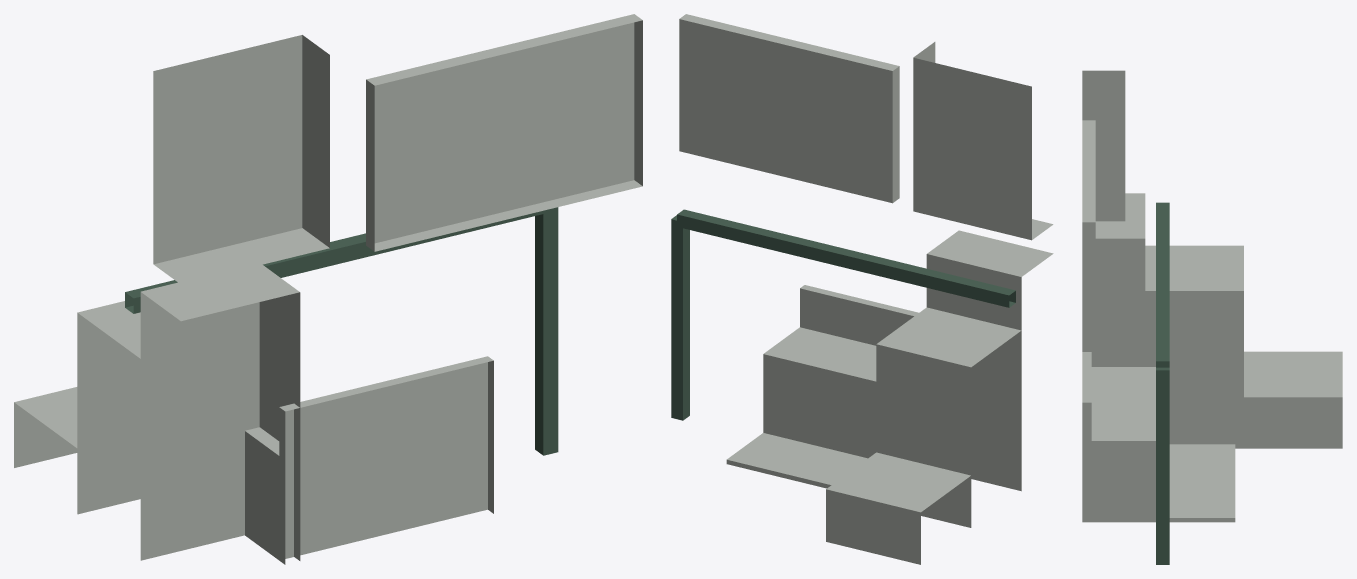
File: cell_26.obj
The picture shows the model from 3 angles, left to right: view 1: azimuth 30°, elevation 25°; view 2: azimuth 150°, elevation 25°; view 3: azimuth 270°, elevation 25°; orthographic projection. The views are drawn at different scales.
Size of the model in its own units: 0.9688 by 1 by 0.6062.
